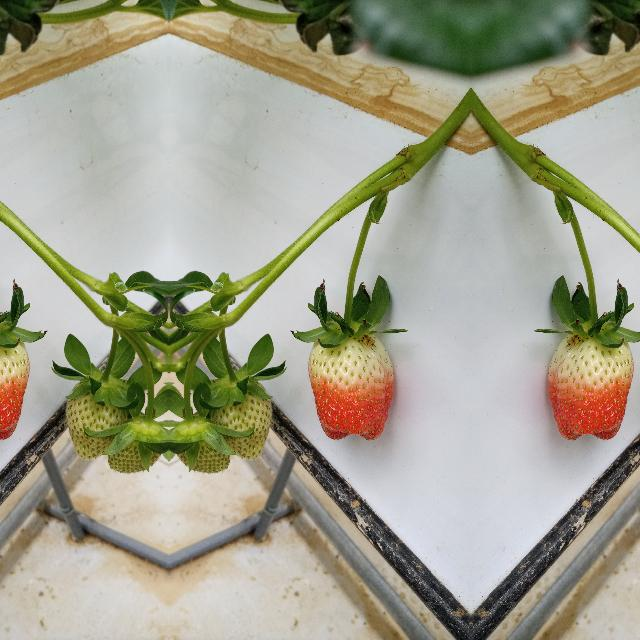Health_25: (210, 374, 272, 460), (64, 374, 126, 460), (168, 421, 232, 474), (104, 421, 168, 474)
Health_50: (306, 334, 394, 441), (547, 334, 635, 441), (0, 333, 30, 440)
